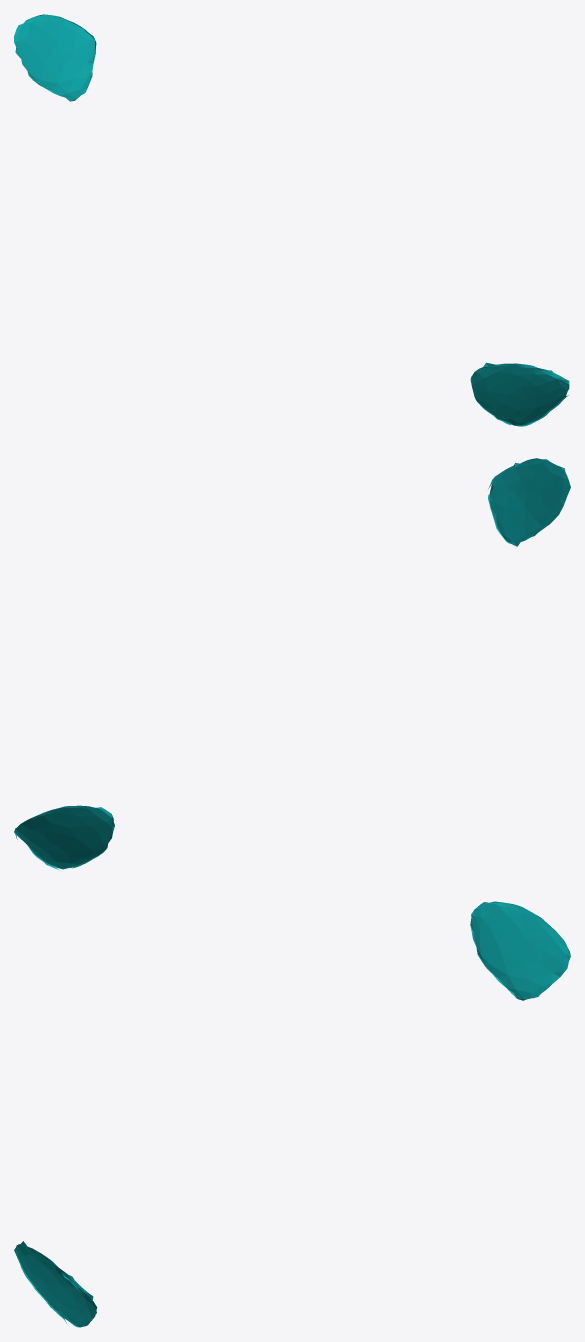
The picture shows the model from 3 angles, top to bottom: view 1: azimuth 30°, elevation 25°; view 2: azimuth 150°, elevation 25°; view 3: azimuth 330°, elevation 25°; orthographic projection.
Parts seen in each view (by area): view 1: 1005.obj; view 2: 1005.obj; view 3: 1005.obj.
Boxes of the visible parts, x1,y1,x2,y2 form: 1005.obj: (14, 14, 569, 426); 1005.obj: (14, 458, 570, 869); 1005.obj: (14, 901, 570, 1327).
Bounding box in the file's own units: 909 × 794 × 8402.
